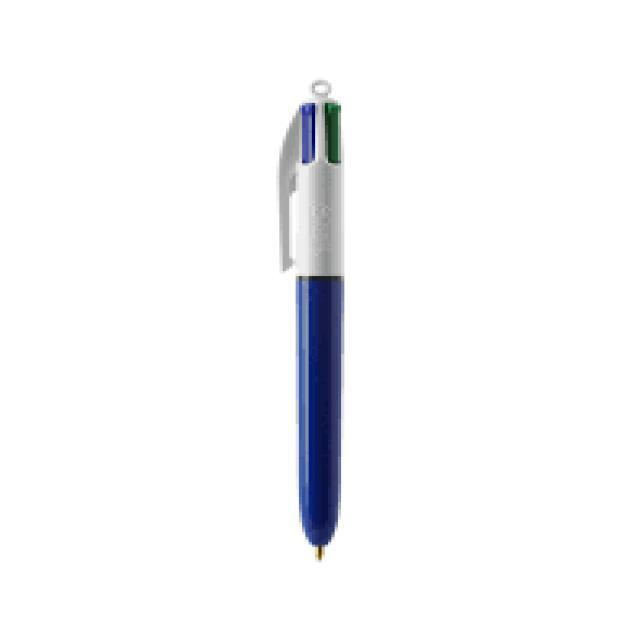pen: (278, 80, 344, 559)
